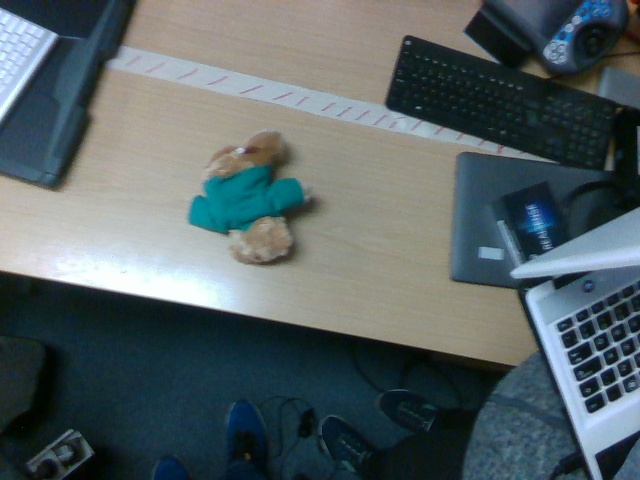teddy: (188, 131, 306, 265)
